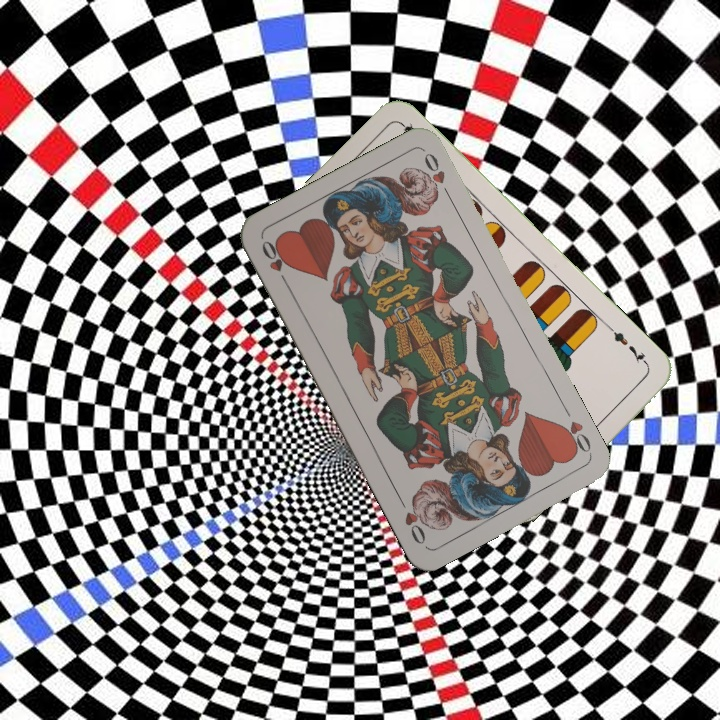E7: (605, 322, 651, 368)
HO: (257, 236, 293, 290), (555, 417, 595, 458)
